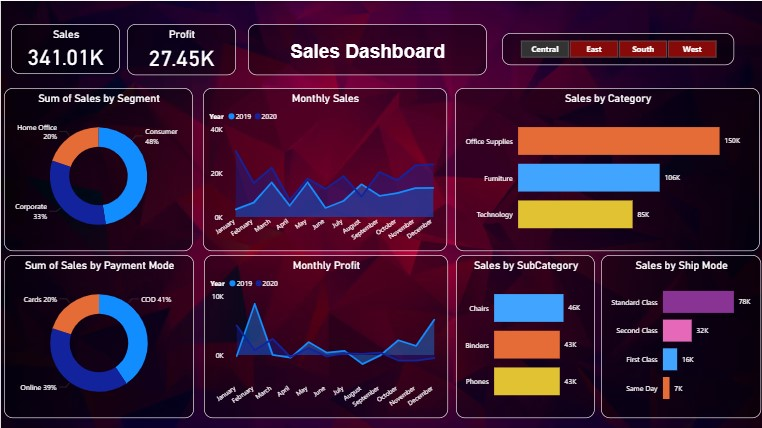

The page's visual inventory and layout, read from the dashboard file:
{"tool":"powerbi","page":{"name":"Page 1","canvas":[1280,720],"ordinal":0},"visuals":[{"type":"clusteredBarChart","title":"Sales by Category","fields":{"Category":["SuperStore_Sales_Dataset.Category"],"Y":["Sum(SuperStore_Sales_Dataset.Sales)"]},"box":[762.6,146.1,512.3,273.8],"z":0},{"type":"clusteredBarChart","title":"Sales by SubCategory","fields":{"Category":["SuperStore_Sales_Dataset.Sub-Category"],"Y":["Sum(SuperStore_Sales_Dataset.Sales)"]},"box":[764.3,426.7,233.5,273.8],"z":1000},{"type":"clusteredBarChart","title":"Sales by Ship Mode","fields":{"Category":["SuperStore_Sales_Dataset.Ship Mode"],"Y":["Sum(SuperStore_Sales_Dataset.Sales)"]},"box":[1007.9,426.7,268.8,273.8],"z":2000},{"type":"areaChart","title":"Monthly Sales","fields":{"Y":["Sum(SuperStore_Sales_Dataset.Sales)"],"Category":["SuperStore_Sales_Dataset.Order Date.Variation.Date Hierarchy.Month"],"Series":["SuperStore_Sales_Dataset.Order Date.Variation.Date Hierarchy.Year"]},"box":[339.3,146.1,409.9,273.8],"z":3000},{"type":"areaChart","title":"Monthly Profit","fields":{"Category":["SuperStore_Sales_Dataset.Order Date.Variation.Date Hierarchy.Month"],"Series":["SuperStore_Sales_Dataset.Order Date.Variation.Date Hierarchy.Year"],"Y":["Sum(SuperStore_Sales_Dataset.Profit)"]},"box":[341,426.7,409.9,273.8],"z":4000},{"type":"donutChart","fields":{"Category":["SuperStore_Sales_Dataset.Segment"],"Y":["Sum(SuperStore_Sales_Dataset.Sales)"]},"box":[5,146.1,317.5,273.8],"z":5000},{"type":"donutChart","fields":{"Category":["SuperStore_Sales_Dataset.Payment Mode"],"Y":["Sum(SuperStore_Sales_Dataset.Sales)"]},"box":[5,426.7,319.2,273.8],"z":6000},{"type":"slicer","fields":{"Values":["SuperStore_Sales_Dataset.Region"]},"box":[841.6,53.8,389.7,53.8],"z":7000},{"type":"textbox","box":[414.9,38.6,401.5,85.7],"z":8000},{"type":"card","title":"Sales","fields":{"Values":["Sum(SuperStore_Sales_Dataset.Sales)"]},"box":[16.8,38.6,183.1,84],"z":9000},{"type":"card","title":"Profit","fields":{"Values":["Sum(SuperStore_Sales_Dataset.Profit)"]},"box":[211.7,38.6,183.1,85.7],"z":10000}]}

Visuals, with their boxes in screenshot pixels (x1, y1, x2, y2), scaled from the page's 1280x720 canvas onto the 762x428 screenshot:
"Sales by Category" clusteredBarChart: locate(454, 87, 759, 250)
"Sales by SubCategory" clusteredBarChart: locate(455, 254, 594, 416)
"Sales by Ship Mode" clusteredBarChart: locate(600, 254, 760, 416)
"Monthly Sales" areaChart: locate(202, 87, 446, 250)
"Monthly Profit" areaChart: locate(203, 254, 447, 416)
donutChart - SuperStore_Sales_Dataset.Segment x Sum(SuperStore_Sales_Dataset.Sales): locate(3, 87, 192, 250)
donutChart - SuperStore_Sales_Dataset.Payment Mode x Sum(SuperStore_Sales_Dataset.Sales): locate(3, 254, 193, 416)
slicer - SuperStore_Sales_Dataset.Region: locate(501, 32, 733, 64)
textbox: locate(247, 23, 486, 74)
"Sales" card: locate(10, 23, 119, 73)
"Profit" card: locate(126, 23, 235, 74)
